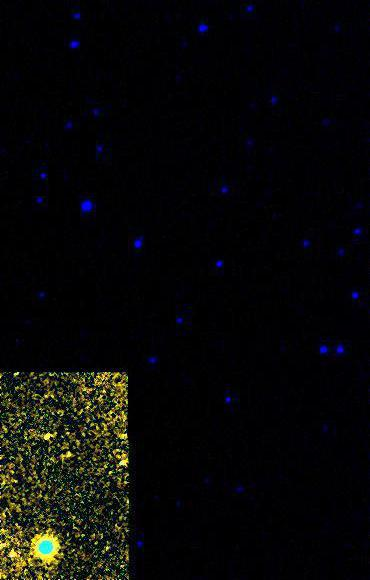star: (32, 534, 62, 564)
